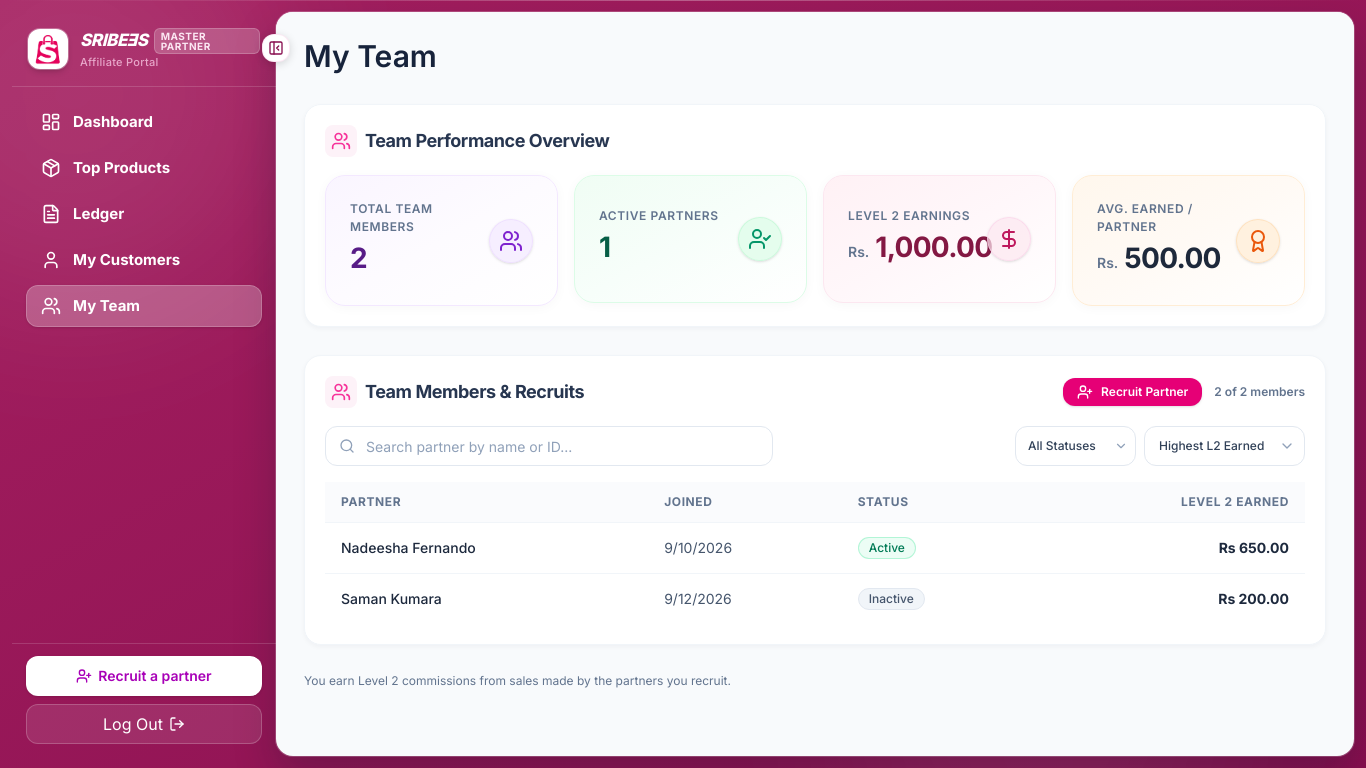
Test case: Team Page › filters team members by search query
The width and height of the screenshot is (1366, 768).
expect the text "Nadeesha Fernando" is shown: met, box [325,523,648,574]
In the field with placeholder "Search partner by name or ID...": [549, 446] box [325,426,773,466], type "Saman"
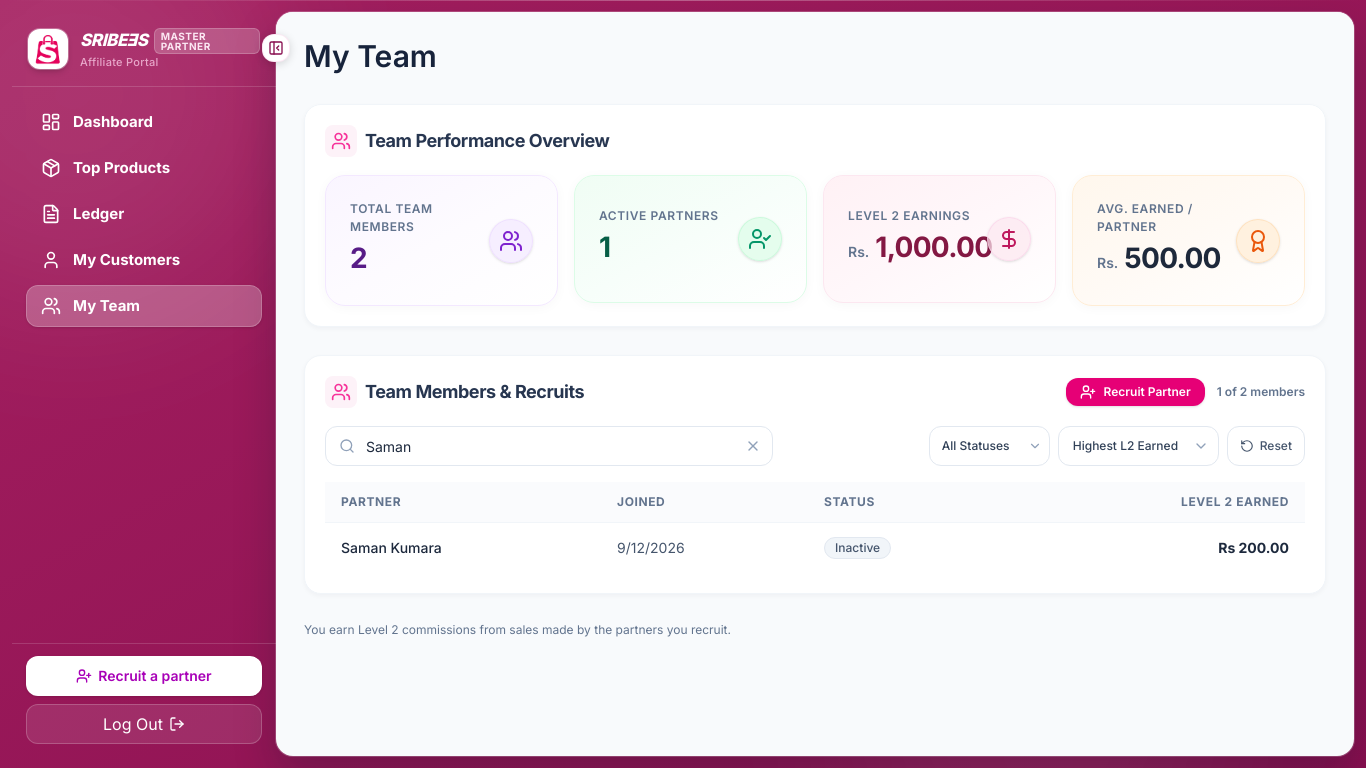
expect the text "Saman Kumara" is shown: met, box [325,523,601,573]
expect the text "Nadeesha Fernando" is gone: met
